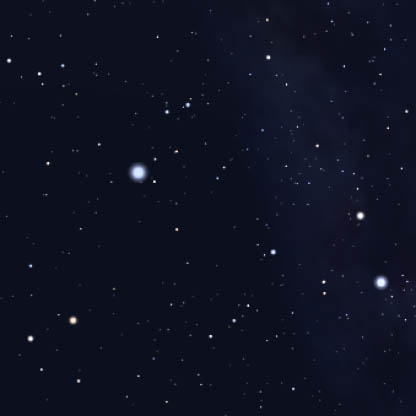Lyra: (127, 159, 148, 184), (171, 145, 184, 160), (159, 105, 173, 118), (180, 97, 193, 111), (147, 153, 159, 166), (151, 173, 161, 187)
